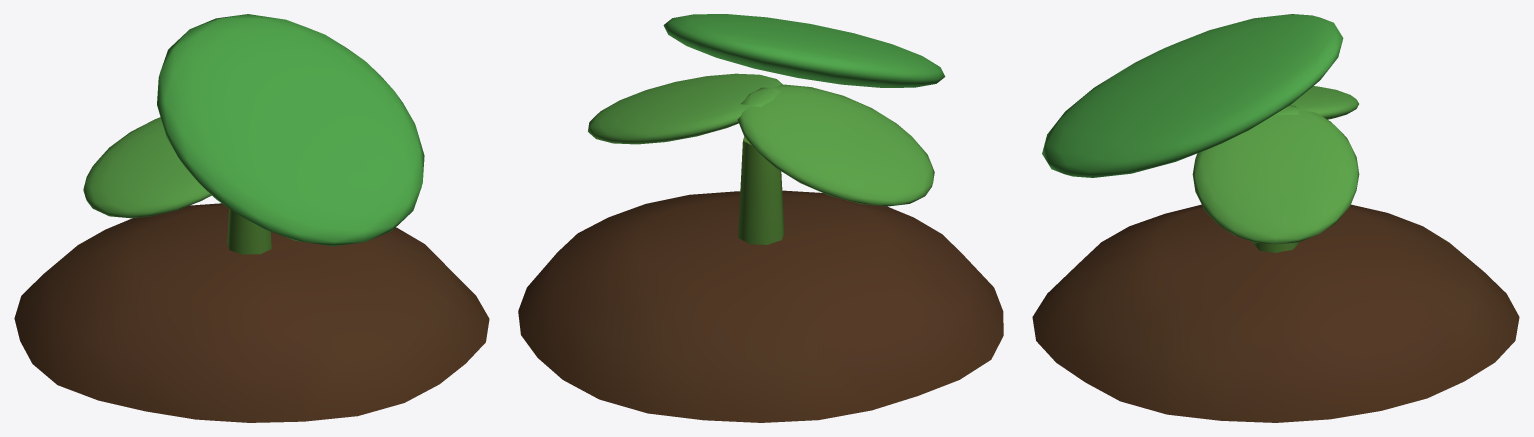
Rendered from pumpkin-1.glb.
3 views of the same model, side by side, from view 1: azimuth 30°, elevation 25°; view 2: azimuth 150°, elevation 25°; view 3: azimuth 270°, elevation 25° (orthographic). The views are drawn at different scales.
Visible parts, largest first — view 1: pumpkin-1; view 2: pumpkin-1; view 3: pumpkin-1.
Part boxes in pixels (x1,y1,x2,y2): pumpkin-1: [14, 14, 489, 422]; pumpkin-1: [518, 14, 1003, 422]; pumpkin-1: [1032, 14, 1519, 422].
Bounding box in the file's own units: 0.4016 × 0.2671 × 0.4093.
